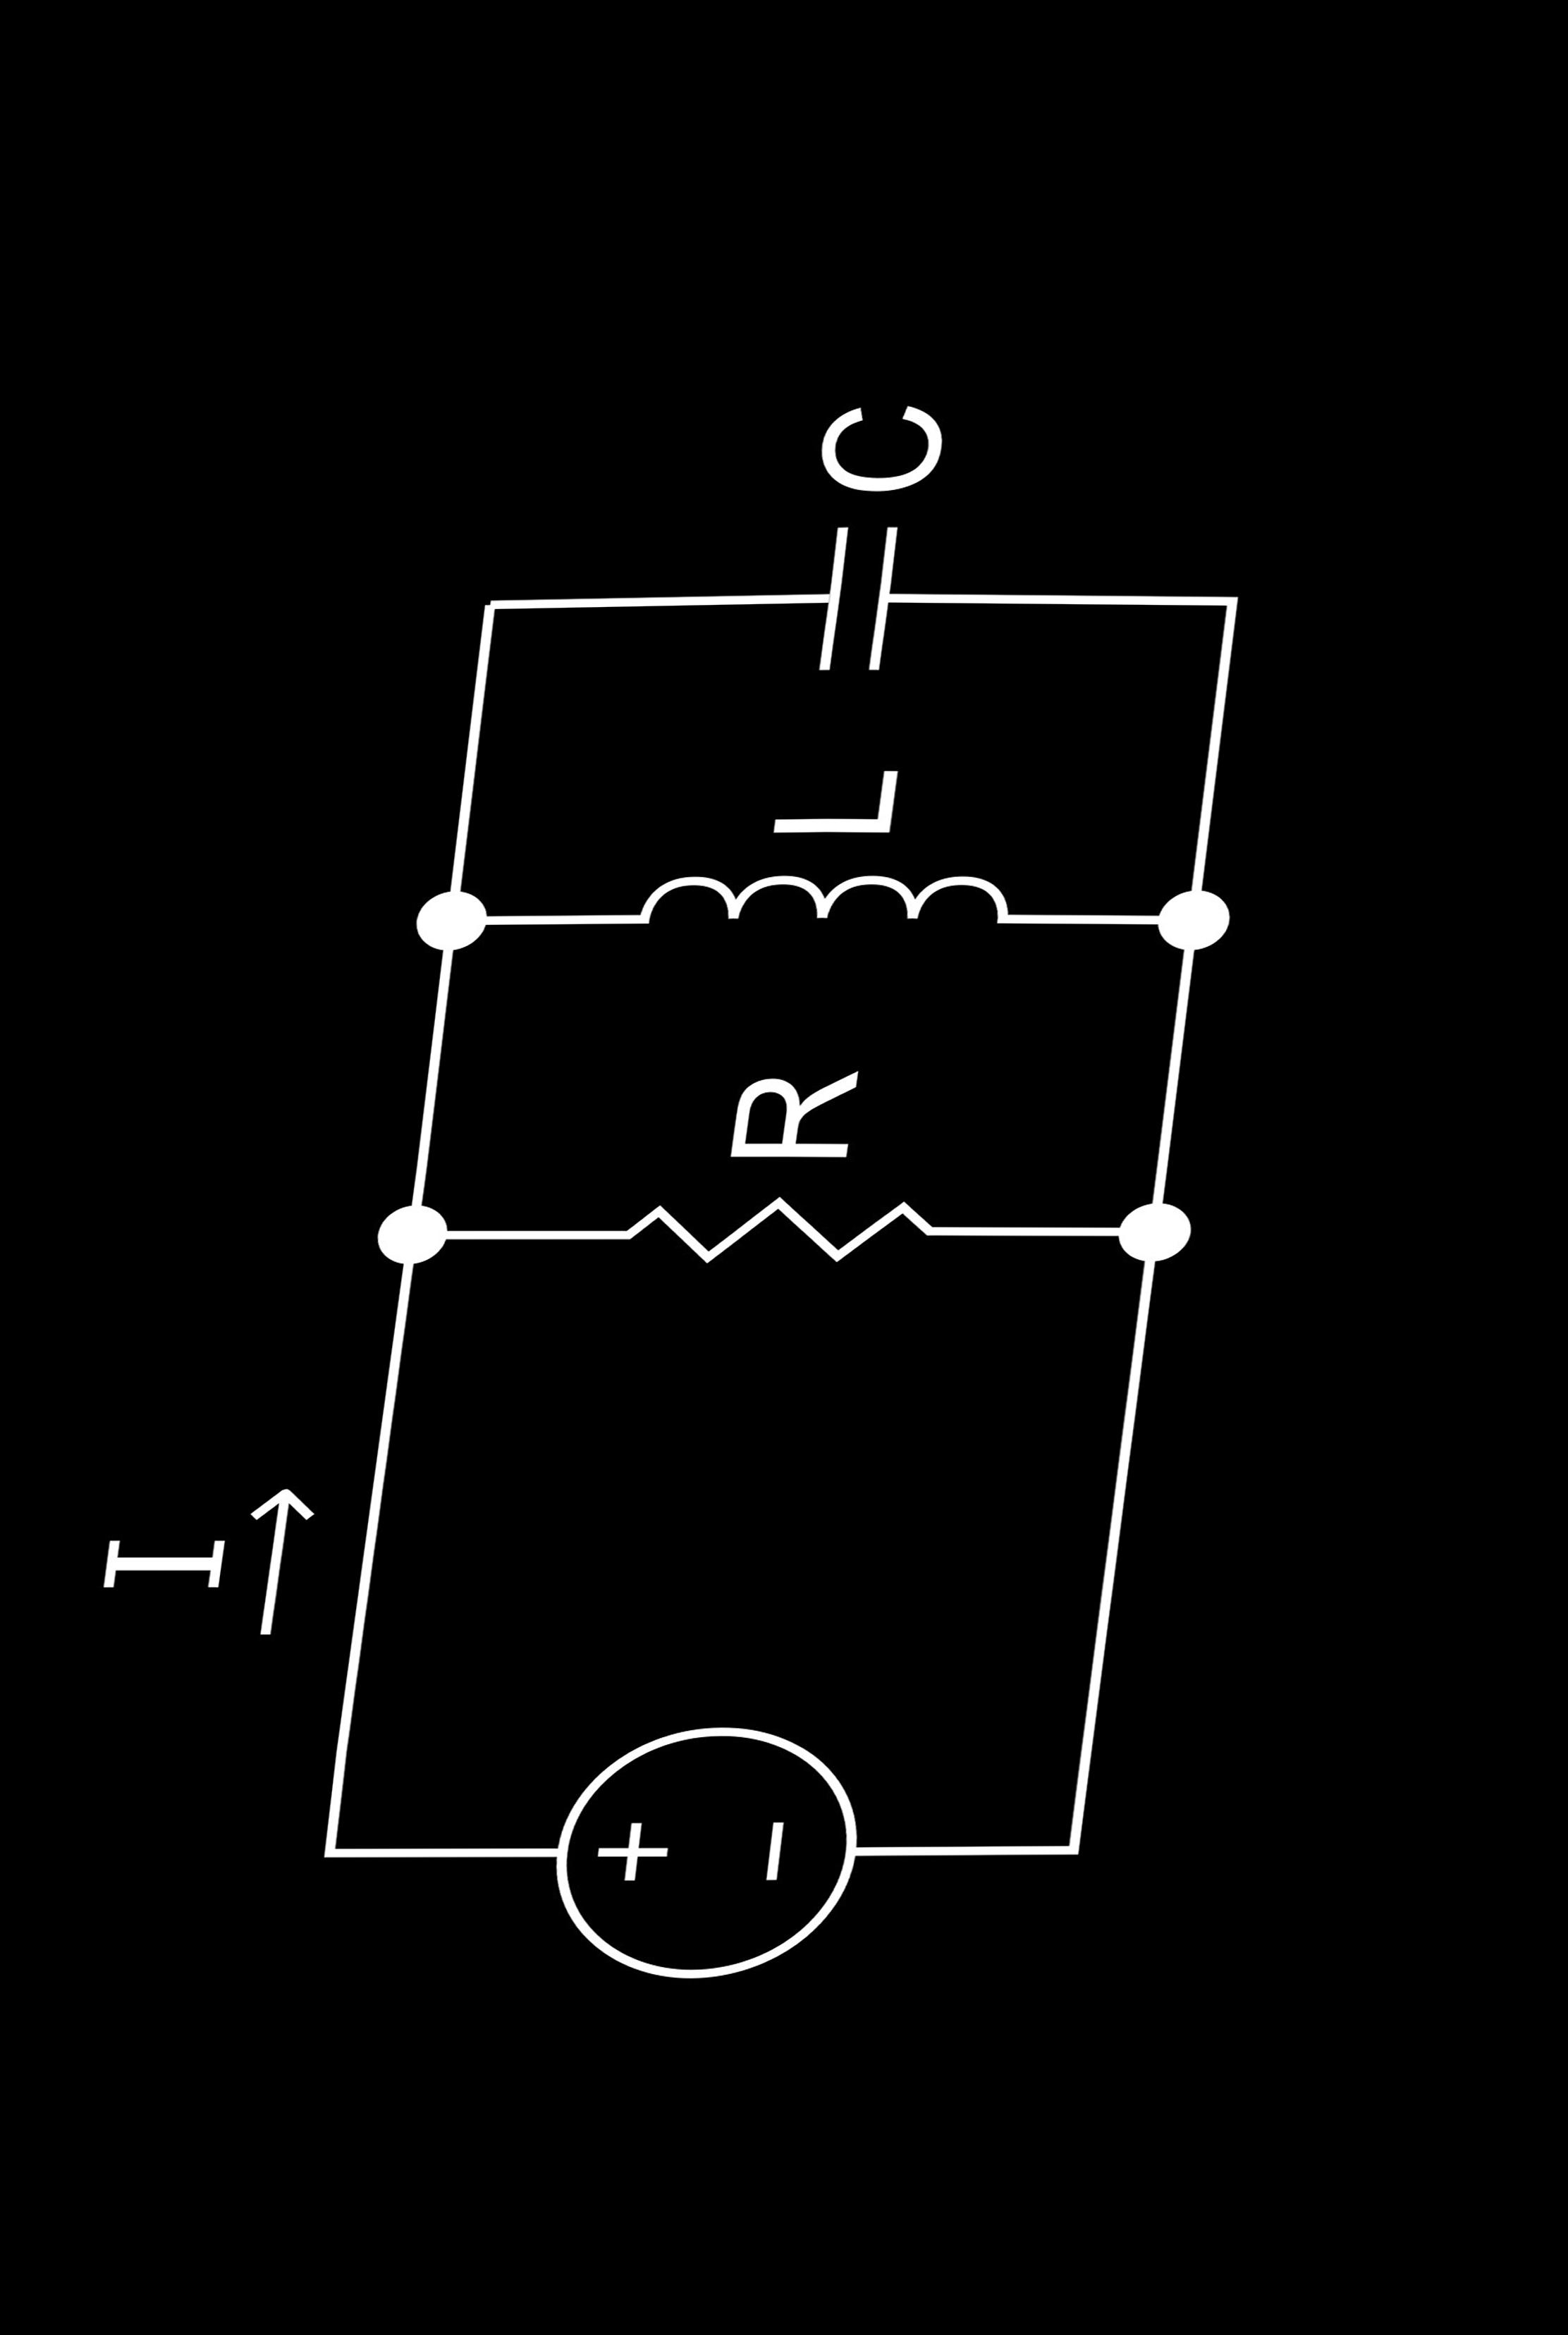Battery: (493, 1669, 941, 2036)
